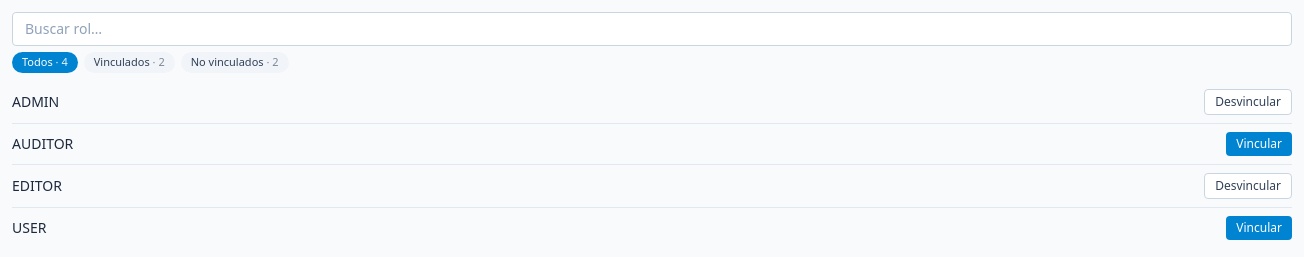
Test: BindingTab › tier 1 toolbar › filters rows by case-insensitive substring on getRowLabel
The image size is (1304, 257).
In the search field with test id "role-toggle-search": point(652, 29) top-left (12, 12), bottom-right (1292, 46), type "ed"
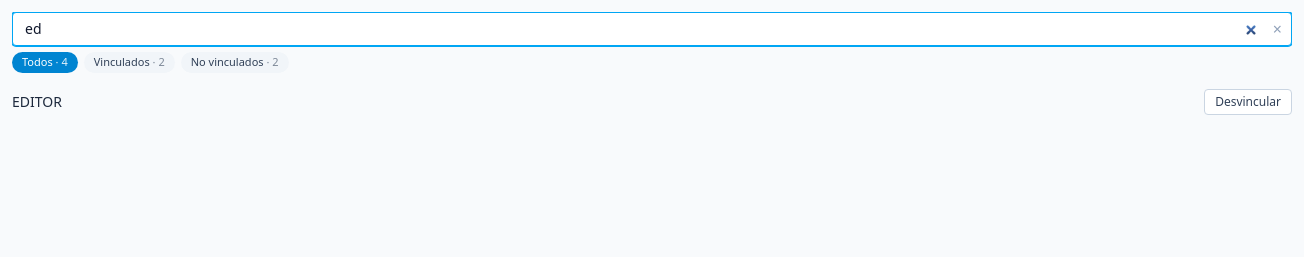
Expected: the list item with test id "role-toggle-row-1" is gone
Expected: the list item with test id "role-toggle-row-2" is gone
Expected: the list item with test id "role-toggle-row-4" is gone
